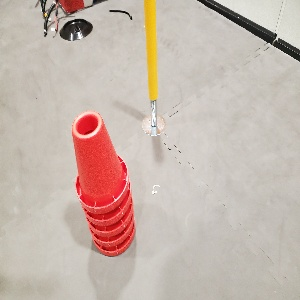Red_5: (71, 112, 135, 254)
